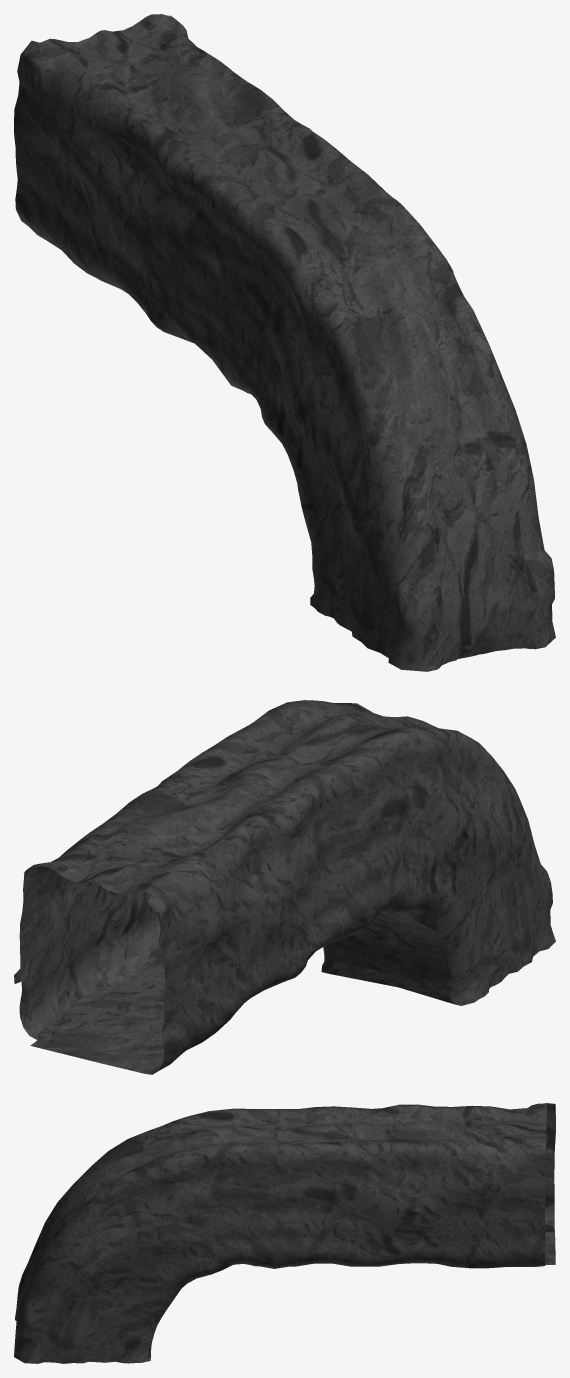
File: CaveTunnel_003.fbx
3 views of the same model, one above another, from view 1: azimuth 30°, elevation 25°; view 2: azimuth 150°, elevation 25°; view 3: azimuth 270°, elevation 25° (orthographic). The views are drawn at different scales.
Parts seen in each view (by area): view 1: Object011; view 2: Object011; view 3: Object011.
Boxes of the visible parts, bbox=[...] form: Object011: bbox=[14, 14, 555, 671]; Object011: bbox=[14, 700, 555, 1074]; Object011: bbox=[14, 1103, 555, 1363].
Size of the model in its own units: 461 by 820 by 1793.
